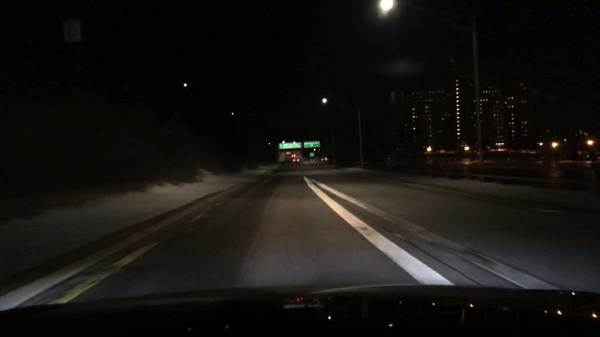car: (304, 157, 317, 162), (292, 157, 300, 163), (321, 156, 327, 162), (285, 150, 292, 155)
traffic sign: (279, 142, 301, 148), (304, 142, 320, 147)
